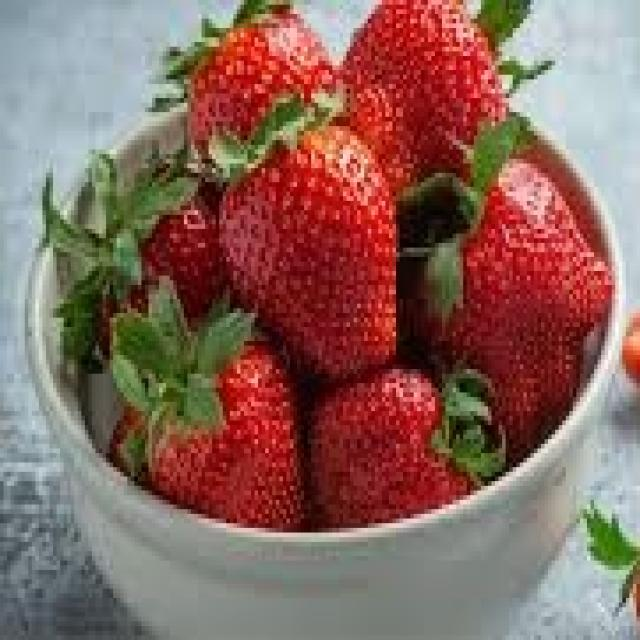strawberry: (192, 84, 402, 415), (424, 154, 610, 460), (130, 309, 306, 529), (339, 0, 508, 184), (312, 365, 470, 529)
